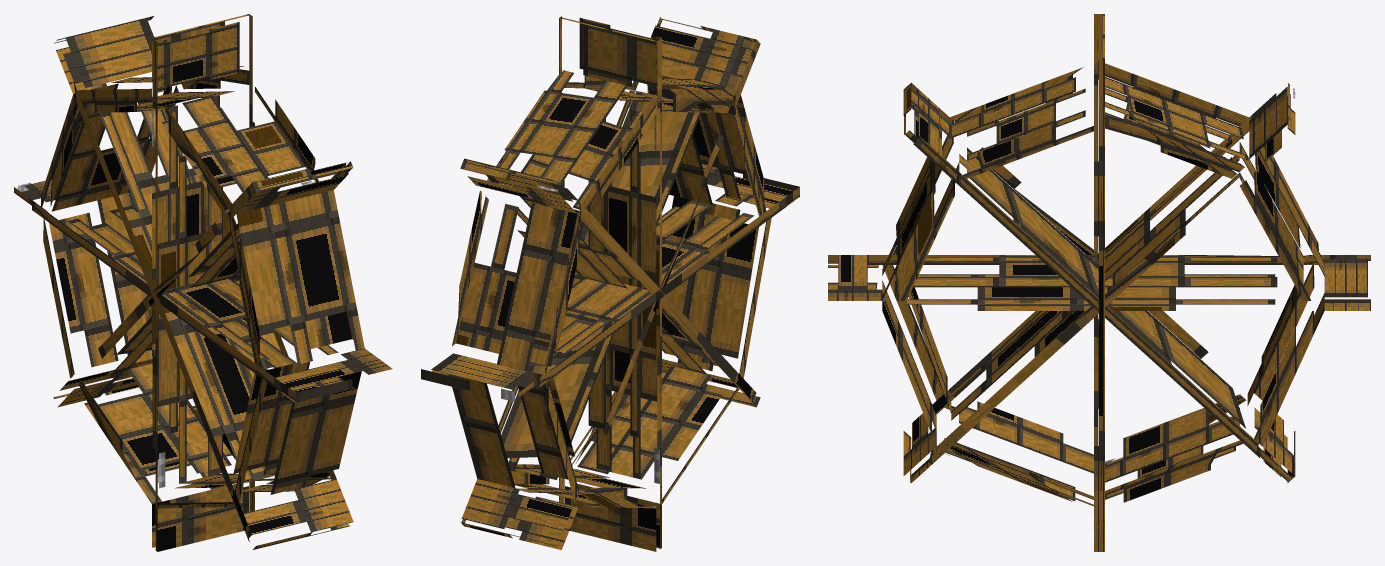
Rendered from water_wheel.obj.
3 views of the same model, side by side, from view 1: azimuth 30°, elevation 25°; view 2: azimuth 150°, elevation 25°; view 3: azimuth 270°, elevation 25° (orthographic). The views are drawn at different scales.
Visible parts, largest first — view 1: Cube_Cube.001; view 2: Cube_Cube.001; view 3: Cube_Cube.001.
Part boxes in pixels (left/top/right/bottom): Cube_Cube.001: left=14, top=14, right=392, bottom=551; Cube_Cube.001: left=421, top=16, right=799, bottom=551; Cube_Cube.001: left=828, top=14, right=1370, bottom=551.
Size of the model in its own units: 2 by 10 by 10.
